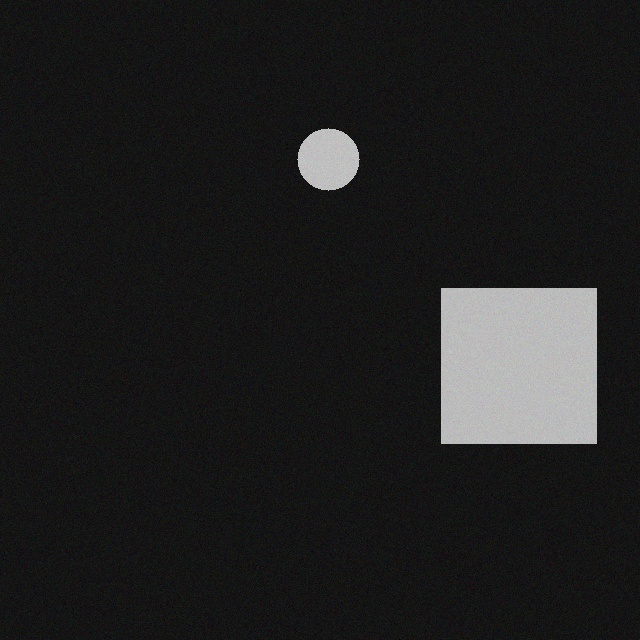circle: (303, 120, 365, 182)
square: (447, 280, 602, 435)
